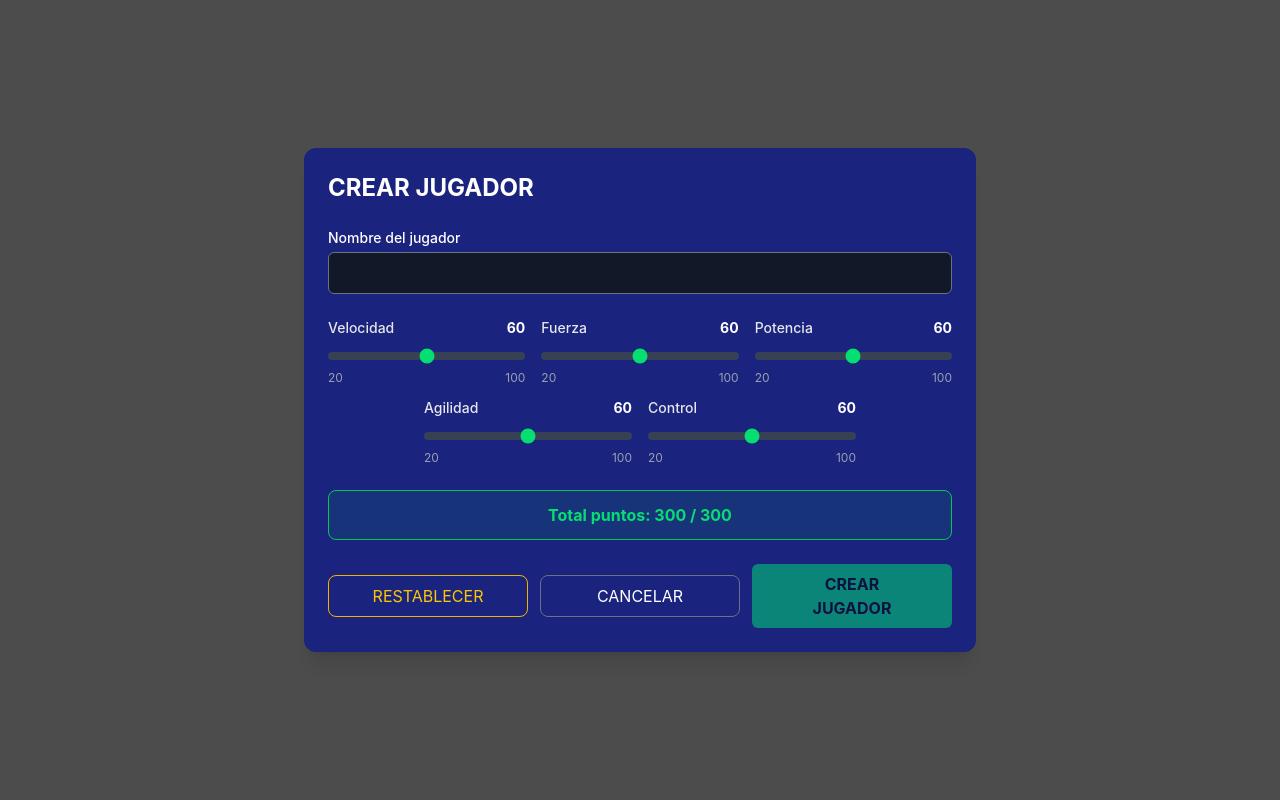
Test case: CrearJugadorForm › permite restablecer las estadísticas a 60
Set the slider named "Velocidad" to "80": (472, 356) [328, 352, 525, 360]
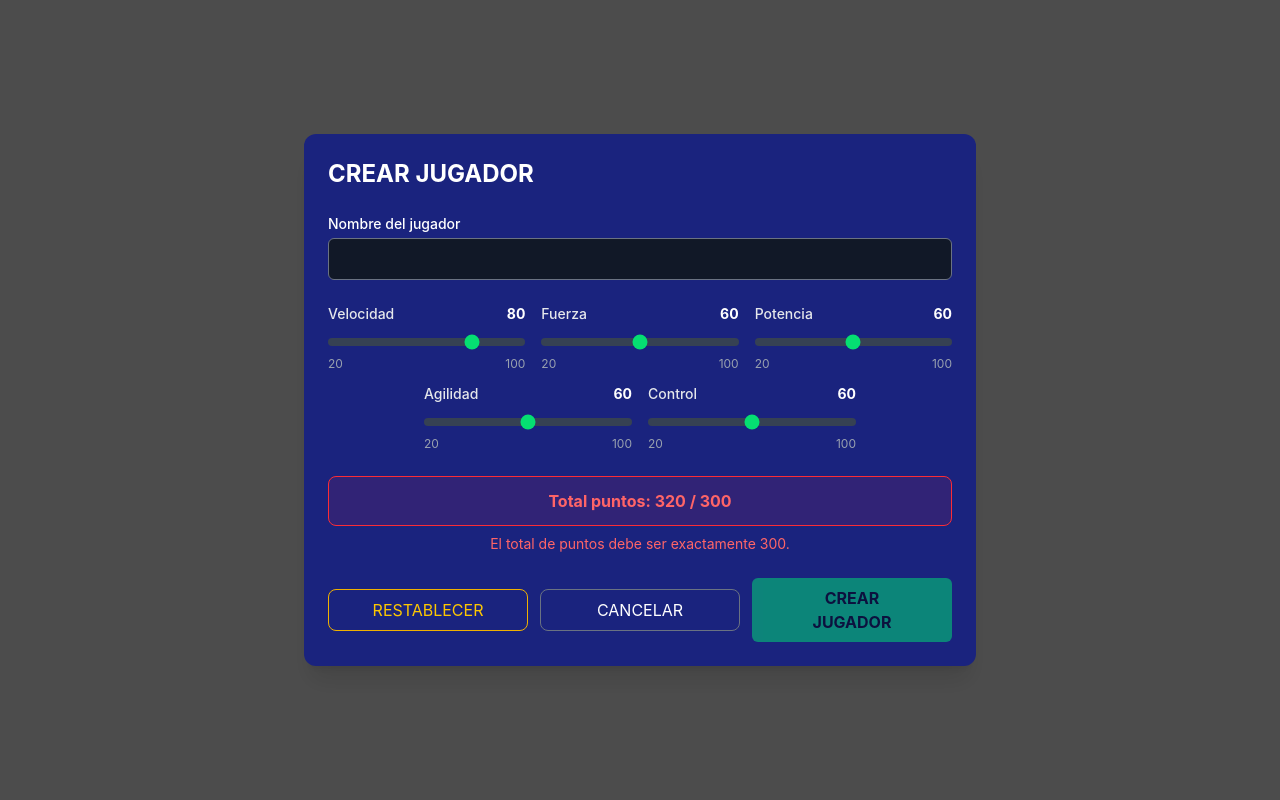
Click the button "RESTABLECER": click(428, 610) [328, 589, 528, 631]
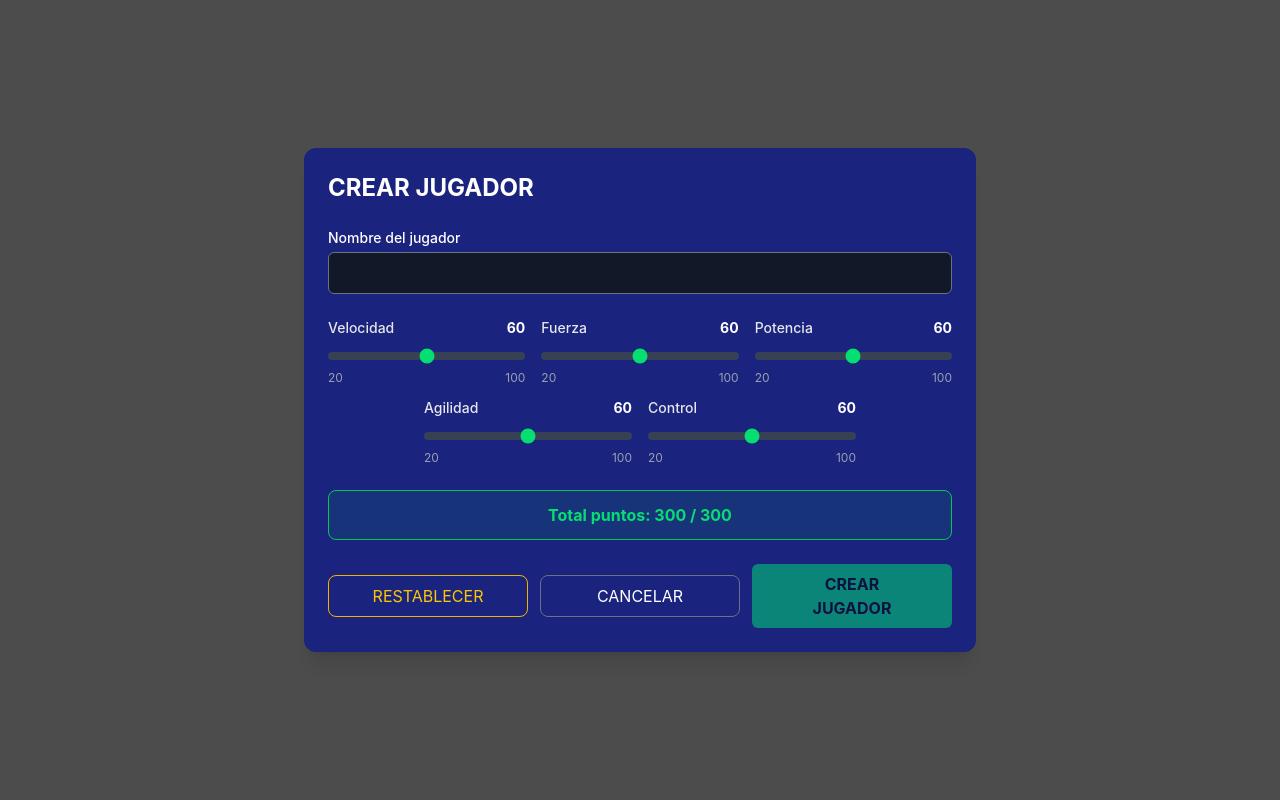
Expected: the slider named "Fuerza" holds "60", [541, 352, 739, 360]
Expected: the slider named "Velocidad" holds "60", [328, 352, 525, 360]
Expected: the text "Total puntos: 300 / 300" is shown, [548, 505, 732, 525]
